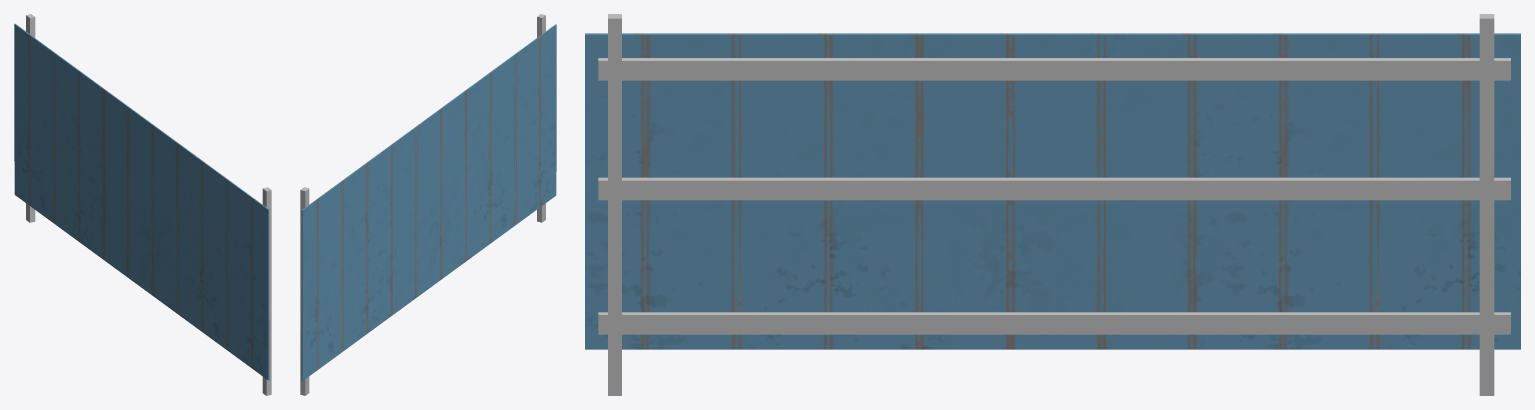
Rendered from TotanFence01b.fbx.
3 views of the same model, side by side, from view 1: azimuth 30°, elevation 25°; view 2: azimuth 150°, elevation 25°; view 3: azimuth 270°, elevation 25° (orthographic). The views are drawn at different scales.
Visible parts, largest first — view 1: TotanFence01b; view 2: TotanFence01b; view 3: TotanFence01b.
Boxes of the visible parts, x1,y1,x2,y2 form: TotanFence01b: (14, 14, 271, 395); TotanFence01b: (300, 14, 556, 395); TotanFence01b: (585, 14, 1520, 395).
Bounding box in the file's own units: 0.1094 × 2.19 × 4.92.
